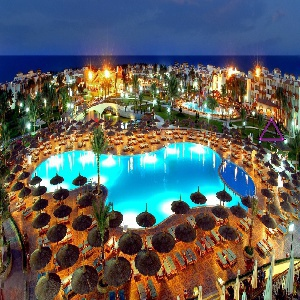triangle: (257, 117, 286, 143)
